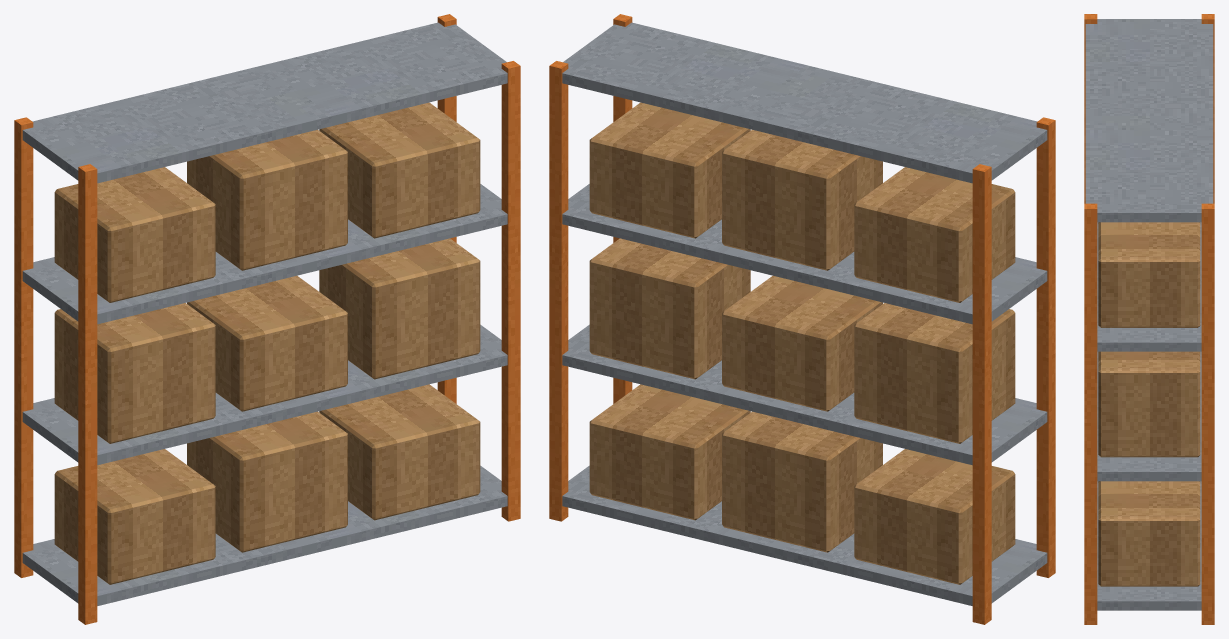
3 views of the same model, side by side, from view 1: azimuth 30°, elevation 25°; view 2: azimuth 150°, elevation 25°; view 3: azimuth 270°, elevation 25° (orthographic). The views are drawn at different scales.
Parts seen in each view (by area): view 1: metal_shelving; view 2: metal_shelving; view 3: metal_shelving.
Part boxes in pixels (x1,y1,x2,y2): metal_shelving: (14,14,520,624); metal_shelving: (549,14,1055,624); metal_shelving: (1084,14,1214,624).
Size of the model in its own units: 1.81 by 1.8 by 0.51.
3 materials, 3 textured.
